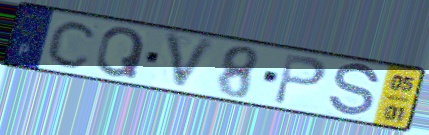8: (213, 45, 262, 99)
C: (44, 18, 101, 70)
P: (271, 52, 329, 107)
Q: (94, 26, 148, 81)
S: (325, 62, 383, 119)
V: (163, 30, 221, 94)
